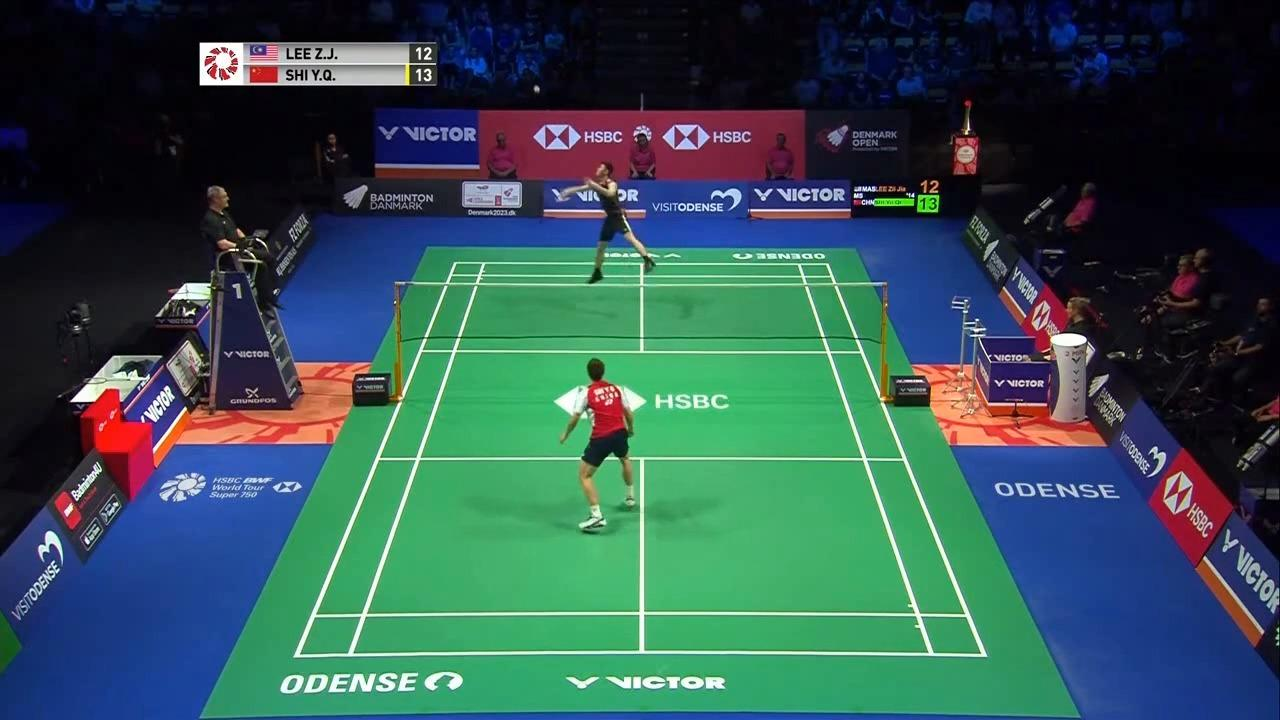shuttle: (533, 85, 539, 94)
